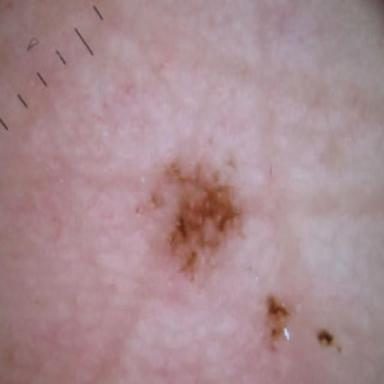Melanoma: (135, 157, 245, 287), (264, 294, 292, 353), (317, 329, 334, 346)
